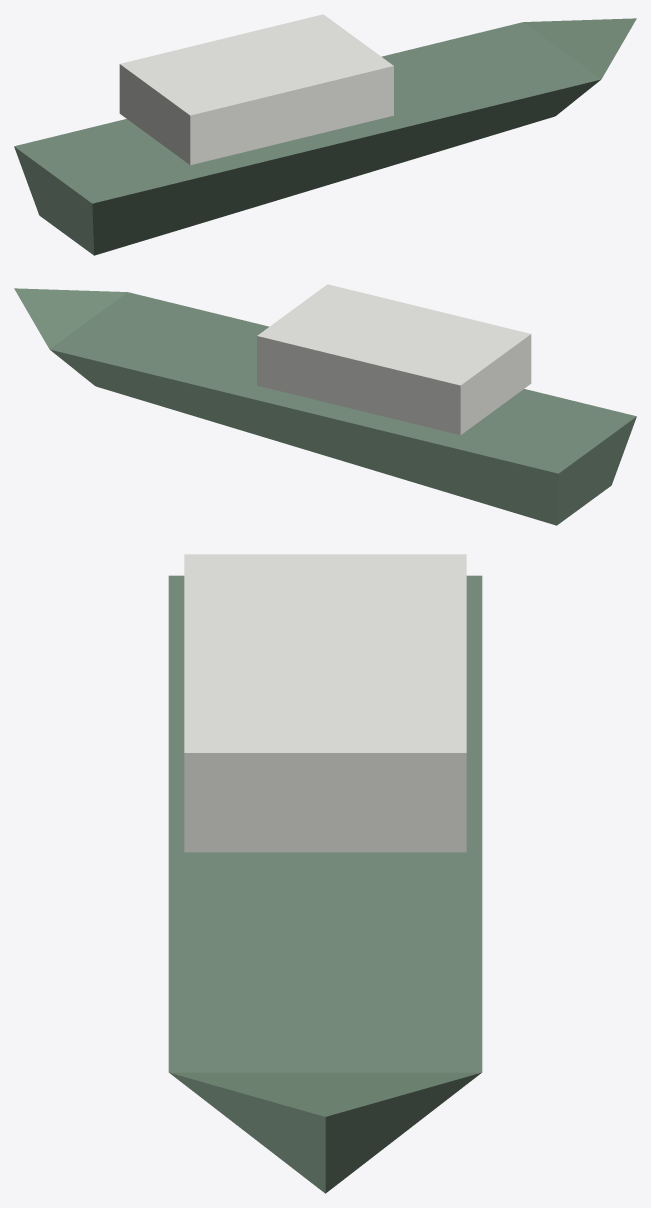
File: CanalBoat.glb
3 views of the same model, one above another, from view 1: azimuth 30°, elevation 25°; view 2: azimuth 150°, elevation 25°; view 3: azimuth 270°, elevation 25° (orthographic). The views are drawn at different scales.
Visible parts, largest first — view 1: Boat, Canopy.002; view 2: Boat, Canopy.002; view 3: Boat, Canopy.002.
Boxes of the visible parts, left/top/right/bottom form: Boat: left=14, top=18, right=636, bottom=255; Canopy.002: left=119, top=14, right=393, bottom=165; Boat: left=14, top=288, right=636, bottom=525; Canopy.002: left=257, top=284, right=531, bottom=435; Boat: left=168, top=575, right=482, bottom=1193; Canopy.002: left=184, top=554, right=466, bottom=852.
Bounding box in the file's own units: 8.6 × 1.75 × 2.
